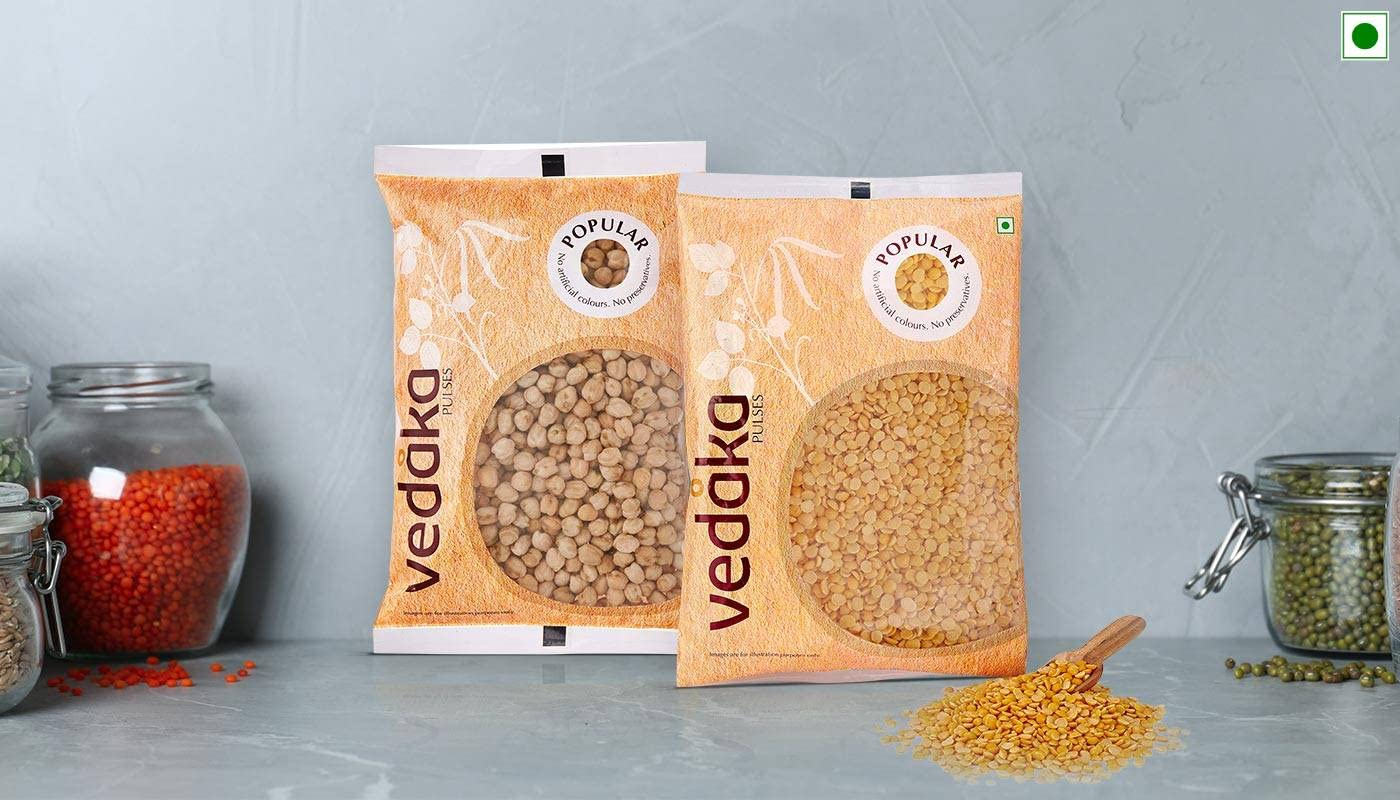veg: (1330, 6, 1392, 74), (997, 211, 1014, 243)
